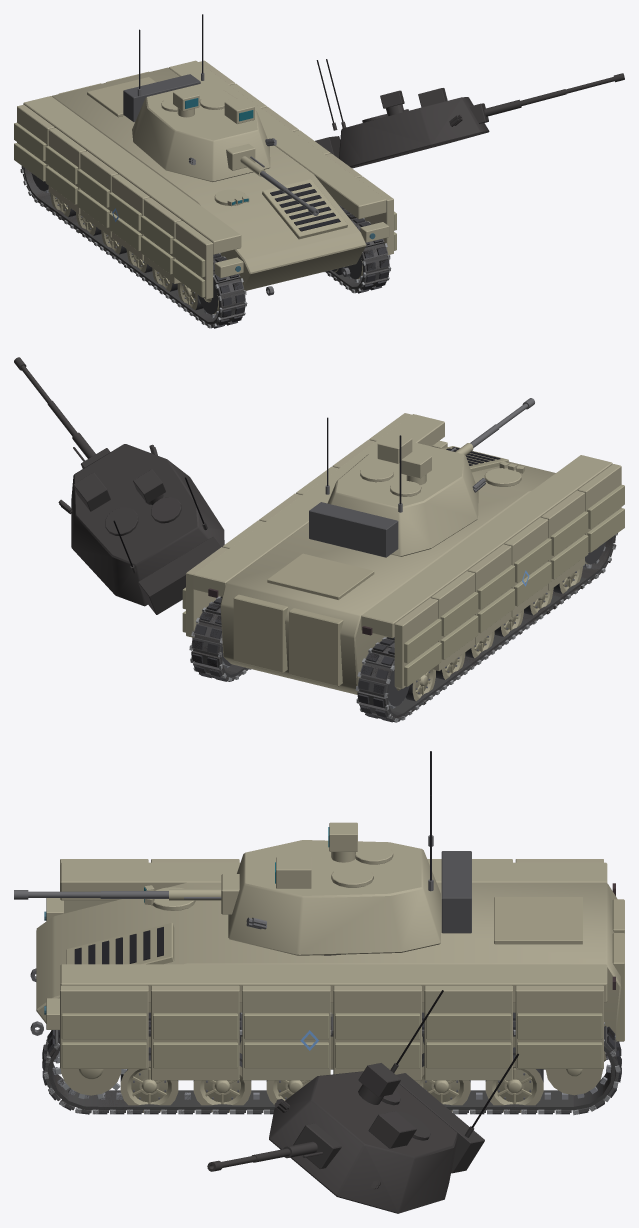
Rendered from ifv__warrior.glb.
3 views of the same model, one above another, from view 1: azimuth 30°, elevation 25°; view 2: azimuth 150°, elevation 25°; view 3: azimuth 270°, elevation 25° (orthographic). The views are drawn at different scales.
Parts seen in each view (by area): view 1: Hull_Mesh, Turret_Mesh, Wreck, Track_L_Mesh, Track_R_Mesh, Gun_Mesh; view 2: Hull_Mesh, Wreck, Turret_Mesh, Track_L_Mesh, Track_R_Mesh, Gun_Mesh, Wheel_L0_Mesh; view 3: Hull_Mesh, Turret_Mesh, Wreck, Track_R_Mesh, Gun_Mesh, Wheel_R5_Mesh, Wheel_R0_Mesh, Wheel_R4_Mesh, Sprocket_R_Mesh, Idler_R_Mesh, Wheel_R1_Mesh, Wheel_R3_Mesh.
Boxes of the visible parts, left/top/right/bottom form: Hull_Mesh: left=14, top=60, right=396, bottom=299; Turret_Mesh: left=123, top=14, right=276, bottom=181; Wreck: left=20, top=59, right=624, bottom=327; Track_L_Mesh: left=20, top=166, right=247, bottom=328; Track_R_Mesh: left=323, top=205, right=391, bottom=293; Gun_Mesh: left=226, top=143, right=319, bottom=215; Hull_Mesh: left=182, top=413, right=624, bottom=694; Wreck: left=14, top=357, right=617, bottom=721; Turret_Mesh: left=309, top=417, right=485, bottom=557; Track_L_Mesh: left=355, top=534, right=617, bottom=722; Track_R_Mesh: left=189, top=596, right=250, bottom=681; Gun_Mesh: left=450, top=398, right=534, bottom=455; Wheel_L0_Mesh: left=405, top=669, right=435, bottom=701; Hull_Mesh: left=30, top=859, right=624, bottom=1080; Turret_Mesh: left=228, top=751, right=471, bottom=955; Wreck: left=42, top=954, right=620, bottom=1213; Track_R_Mesh: left=42, top=1012, right=621, bottom=1115; Gun_Mesh: left=14, top=874, right=239, bottom=914; Wheel_R5_Mesh: left=120, top=1047, right=178, bottom=1112; Wheel_R0_Mesh: left=485, top=1047, right=543, bottom=1112; Wheel_R4_Mesh: left=193, top=1053, right=251, bottom=1112; Sprocket_R_Mesh: left=55, top=1051, right=127, bottom=1099; Idler_R_Mesh: left=545, top=1069, right=602, bottom=1095; Wheel_R1_Mesh: left=414, top=1053, right=470, bottom=1111; Wheel_R3_Mesh: left=266, top=1080, right=311, bottom=1104.
Size of what is drawn, in the model's own units: 8.86 by 3.51 by 6.86.
